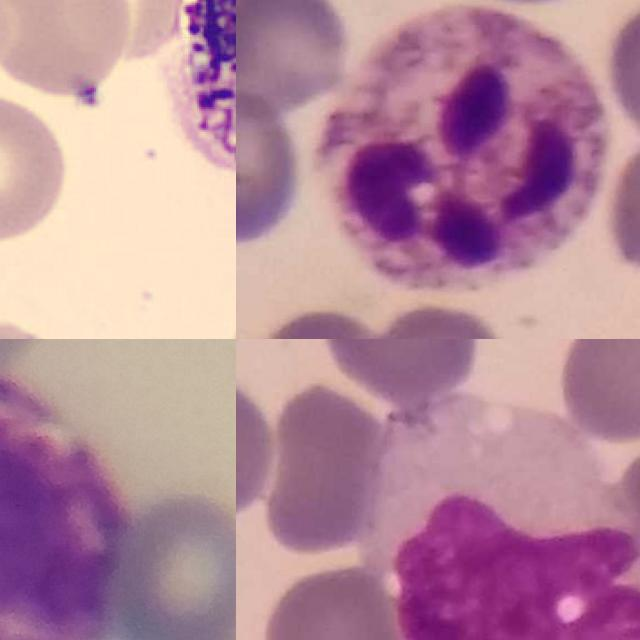Basophil: (0, 373, 129, 640), (145, 0, 236, 221)
Monocyte: (379, 393, 640, 640)
Neutrophil: (322, 4, 609, 296)
Platelets: (71, 77, 106, 113)
RBC: (0, 0, 135, 103), (0, 86, 72, 248), (72, 0, 209, 65), (0, 312, 76, 339)
